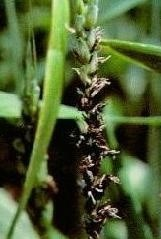Wheat Loose Smut: (70, 78, 121, 229)
